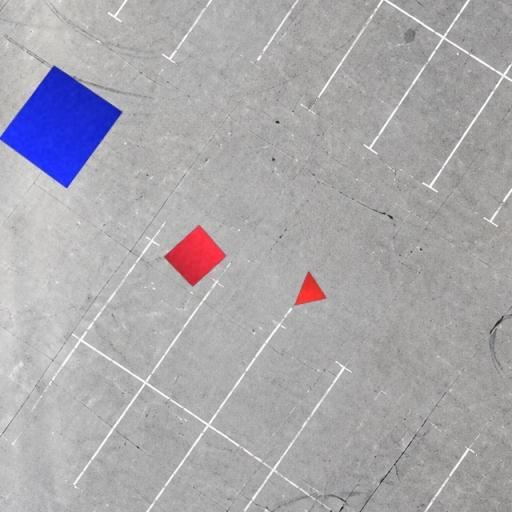BLUE_SQUARE: (0, 64, 123, 189)
RED_SQUARE: (163, 225, 227, 286)
